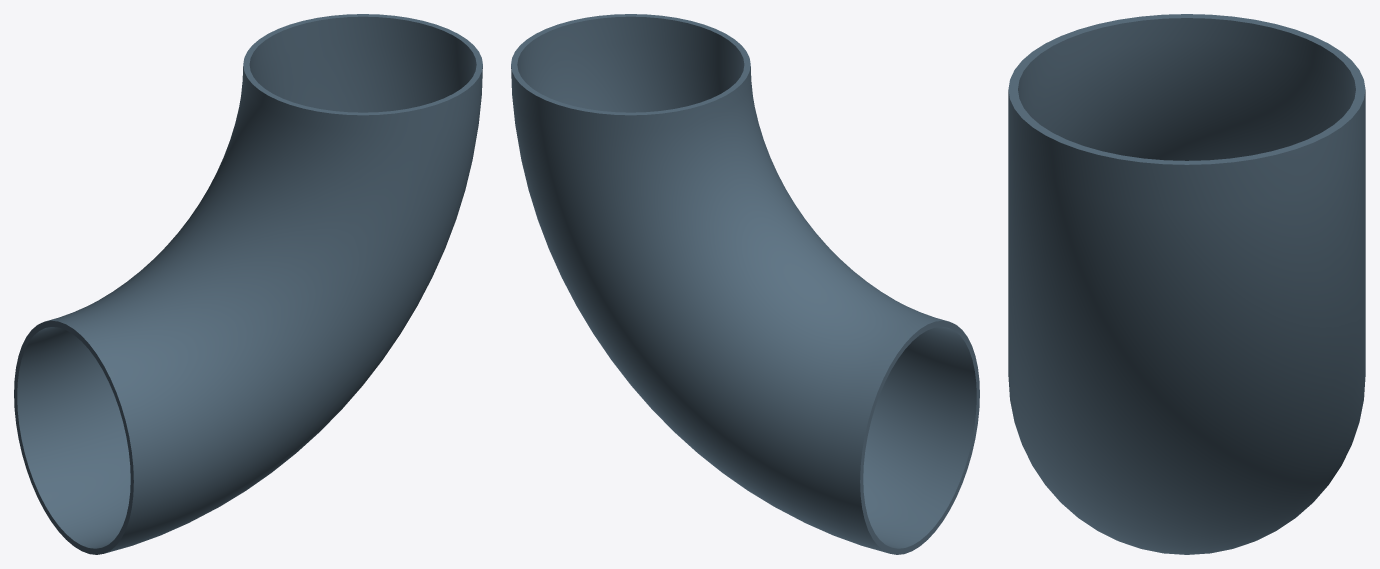
Rendered from otvod-90-377x10-R525.glb.
3 views of the same model, side by side, from view 1: azimuth 30°, elevation 25°; view 2: azimuth 150°, elevation 25°; view 3: azimuth 270°, elevation 25° (orthographic). The views are drawn at different scales.
Parts seen in each view (by area): view 1: Open CASCADE STEP translator 7.9 88; view 2: Open CASCADE STEP translator 7.9 88; view 3: Open CASCADE STEP translator 7.9 88.
Part boxes in pixels (x1=…): Open CASCADE STEP translator 7.9 88: x1=14, y1=14, x2=482, y2=554; Open CASCADE STEP translator 7.9 88: x1=511, y1=14, x2=979, y2=554; Open CASCADE STEP translator 7.9 88: x1=1008, y1=14, x2=1365, y2=554.
Bounding box in the file's own units: 714 × 714 × 377.
